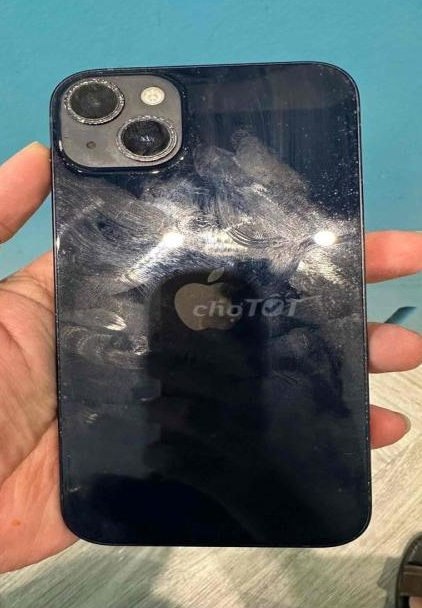scratch: (323, 49, 386, 417), (45, 72, 212, 184), (42, 180, 95, 529), (338, 410, 386, 530)
